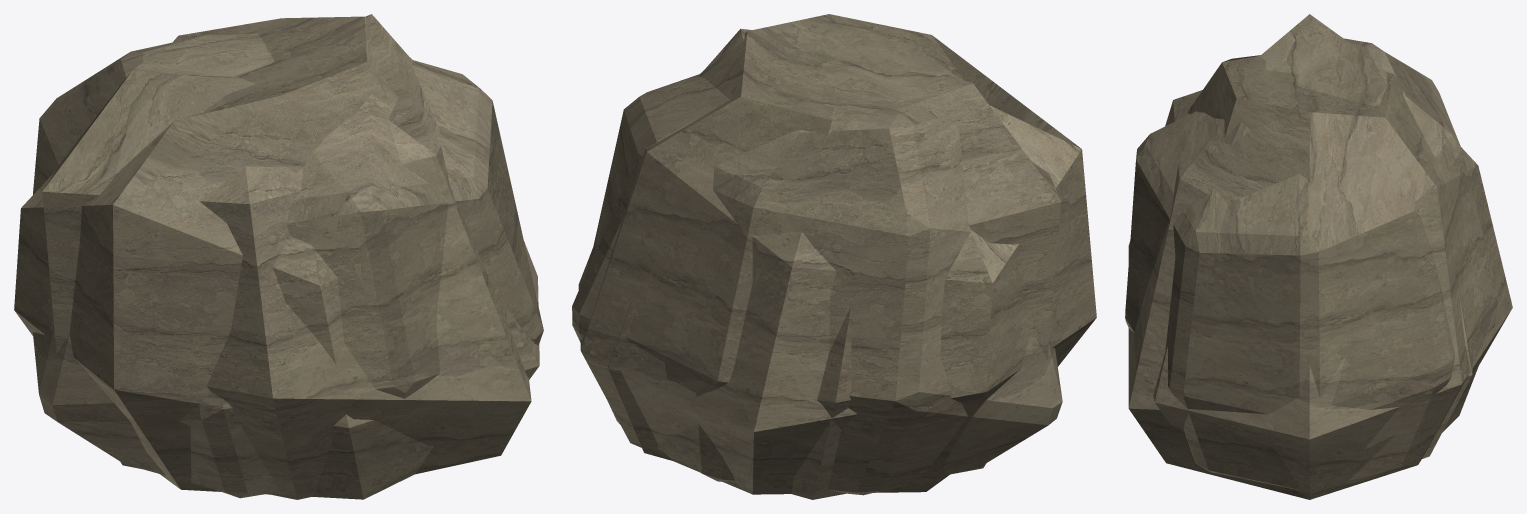
The model's file is env_rock_boulder_c_v001.glb.
3 views of the same model, side by side, from view 1: azimuth 30°, elevation 25°; view 2: azimuth 150°, elevation 25°; view 3: azimuth 270°, elevation 25° (orthographic). The views are drawn at different scales.
Visible parts, largest first — view 1: env_rock_boulder_c_LOD1_mesh, env_rock_boulder_c_LOD2_mesh, env_rock_boulder_c_LOD0_mesh; view 2: env_rock_boulder_c_LOD0_mesh, env_rock_boulder_c_LOD1_mesh, env_rock_boulder_c_LOD2_mesh; view 3: env_rock_boulder_c_LOD0_mesh, env_rock_boulder_c_LOD1_mesh, env_rock_boulder_c_LOD2_mesh.
Boxes of the visible parts, left/top/right/bottom form: env_rock_boulder_c_LOD1_mesh: left=14, top=16, right=539, bottom=499; env_rock_boulder_c_LOD2_mesh: left=42, top=14, right=531, bottom=499; env_rock_boulder_c_LOD0_mesh: left=33, top=32, right=543, bottom=498; env_rock_boulder_c_LOD0_mesh: left=572, top=65, right=1062, bottom=495; env_rock_boulder_c_LOD1_mesh: left=578, top=14, right=1096, bottom=494; env_rock_boulder_c_LOD2_mesh: left=608, top=28, right=1061, bottom=499; env_rock_boulder_c_LOD0_mesh: left=1125, top=38, right=1498, bottom=489; env_rock_boulder_c_LOD1_mesh: left=1153, top=55, right=1512, bottom=499; env_rock_boulder_c_LOD2_mesh: left=1128, top=14, right=1472, bottom=499.
Size of the model in its own units: 2.08 by 1.57 by 1.66.
3 materials, 3 textured.
